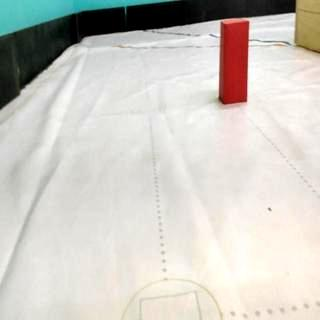redbox: (219, 18, 250, 106)
